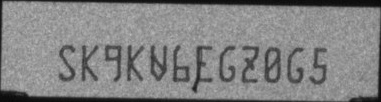0: (263, 46, 281, 83)
5: (309, 47, 328, 84)
6: (173, 45, 190, 82)
9: (105, 44, 122, 82)
E: (196, 44, 214, 82)
G: (219, 45, 237, 82), (287, 47, 305, 84)
K: (127, 43, 146, 82), (82, 44, 99, 81)
S: (58, 44, 76, 82)
V: (150, 43, 166, 81)
Z: (240, 44, 260, 84)
